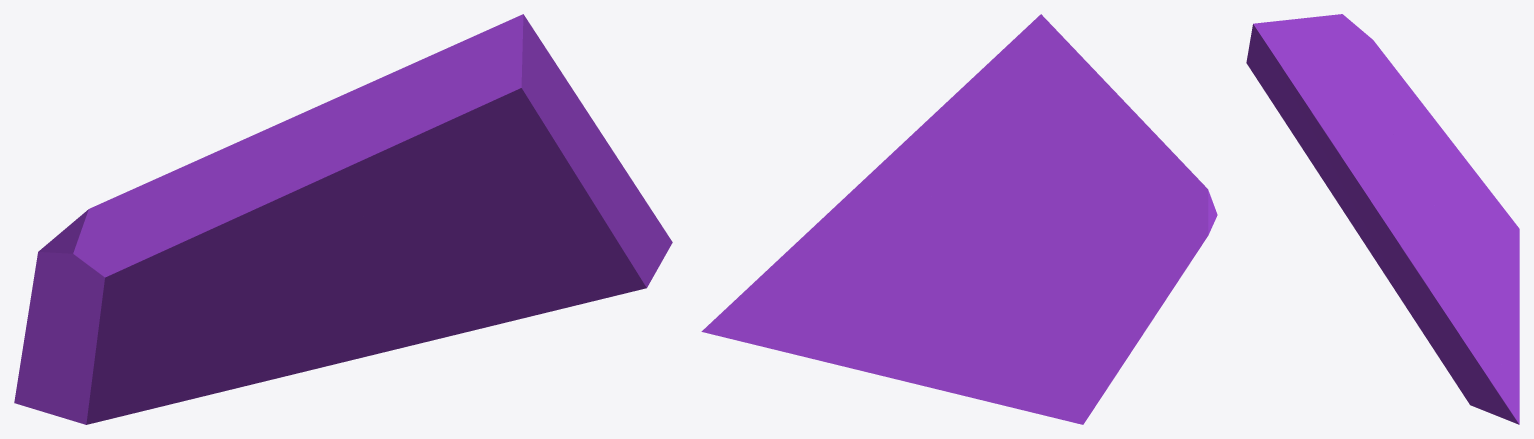
Rendered from Window_127_2_chunks.fbx.
The picture shows the model from 3 angles, left to right: view 1: azimuth 30°, elevation 25°; view 2: azimuth 150°, elevation 25°; view 3: azimuth 270°, elevation 25°; orthographic projection. The views are drawn at different scales.
Parts seen in each view (by area): view 1: Window_127_2_1, Window_127_2_6, Window_127_2_0, Window_127_2_2, Window_127_2_7, Window_127_2_4, Window_127_2_3, Window_127_2_10; view 2: Window_127_2_0, Window_127_2_1, Window_127_2_6, Window_127_2_7, Window_127_2_12, Window_127_2_3, Window_127_2_4, Window_127_2_5, Window_127_2_8, Window_127_2_9, Window_127_2_11; view 3: Window_127_2_7, Window_127_2_6, Window_127_2_0, Window_127_2_1, Window_127_2_12, Window_127_2_3, Window_127_2_4, Window_127_2_5, Window_127_2_8, Window_127_2_9, Window_127_2_11.
Boxes of the visible parts, bbox=[...] form: Window_127_2_1: bbox=[34, 47, 481, 330]; Window_127_2_6: bbox=[327, 14, 566, 252]; Window_127_2_0: bbox=[14, 275, 240, 424]; Window_127_2_2: bbox=[204, 250, 485, 370]; Window_127_2_7: bbox=[497, 80, 672, 263]; Window_127_2_4: bbox=[425, 257, 661, 335]; Window_127_2_3: bbox=[190, 310, 451, 399]; Window_127_2_10: bbox=[410, 214, 564, 260]; Window_127_2_0: bbox=[952, 229, 1189, 424]; Window_127_2_1: bbox=[1059, 44, 1217, 263]; Window_127_2_6: bbox=[943, 14, 1069, 243]; Window_127_2_7: bbox=[701, 105, 944, 339]; Window_127_2_12: bbox=[753, 217, 959, 334]; Window_127_2_3: bbox=[834, 313, 981, 392]; Window_127_2_4: bbox=[735, 297, 898, 363]; Window_127_2_5: bbox=[897, 267, 1012, 329]; Window_127_2_8: bbox=[920, 171, 1040, 244]; Window_127_2_9: bbox=[951, 238, 1039, 283]; Window_127_2_11: bbox=[931, 219, 1012, 248]; Window_127_2_7: bbox=[1323, 139, 1519, 424]; Window_127_2_6: bbox=[1246, 22, 1405, 179]; Window_127_2_0: bbox=[1393, 69, 1519, 295]; Window_127_2_1: bbox=[1269, 14, 1395, 132]; Window_127_2_12: bbox=[1407, 209, 1512, 391]; Window_127_2_3: bbox=[1473, 241, 1519, 356]; Window_127_2_4: bbox=[1443, 277, 1519, 416]; Window_127_2_5: bbox=[1426, 186, 1475, 286]; Window_127_2_8: bbox=[1373, 154, 1407, 217]; Window_127_2_9: bbox=[1406, 155, 1446, 234]; Window_127_2_11: bbox=[1407, 170, 1421, 211].
Bounding box in the file's own units: 1089 × 659 × 559.
